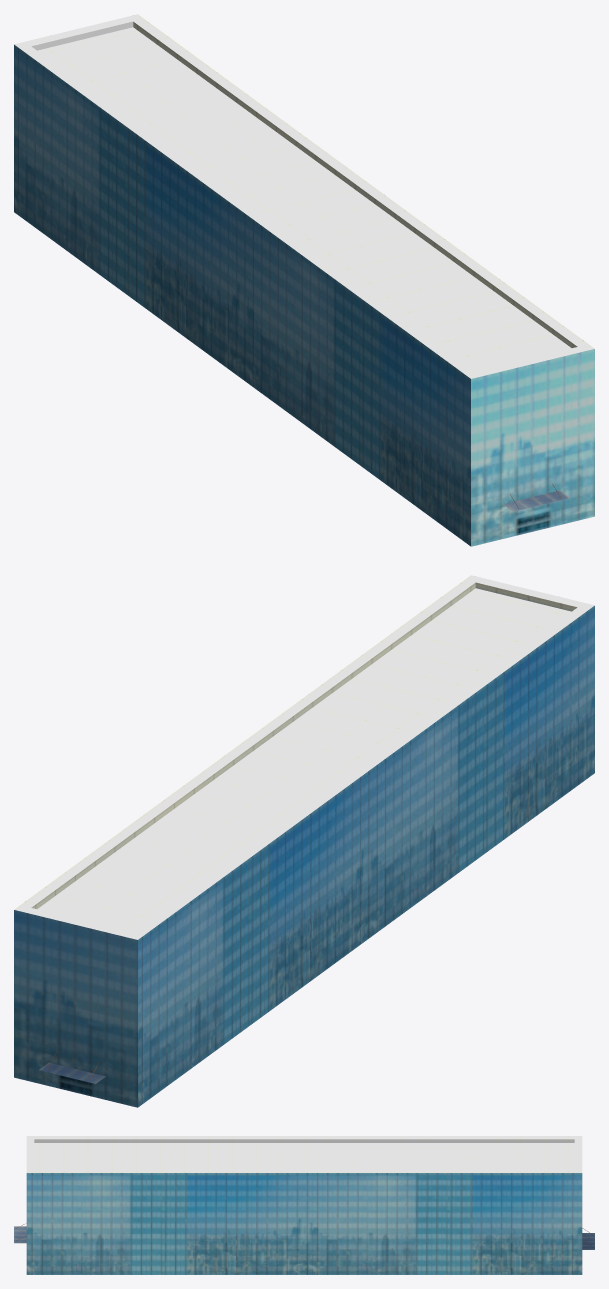
Rendered from 1B Commercial atrium.obj.
3 renders of one model, top to bottom at view 1: azimuth 30°, elevation 25°; view 2: azimuth 150°, elevation 25°; view 3: azimuth 270°, elevation 25°, orthographic. The views are drawn at different scales.
Visible parts, largest first — view 1: 1B_Commercial_atrium; view 2: 1B_Commercial_atrium; view 3: 1B_Commercial_atrium.
Boxes of the visible parts, x1,y1,x2,y2 form: 1B_Commercial_atrium: (14, 14, 594, 546); 1B_Commercial_atrium: (14, 575, 594, 1107); 1B_Commercial_atrium: (14, 1136, 594, 1274).
Size of the model in its own units: 11.31 by 14.65 by 75.64.
1 material, 1 textured.
